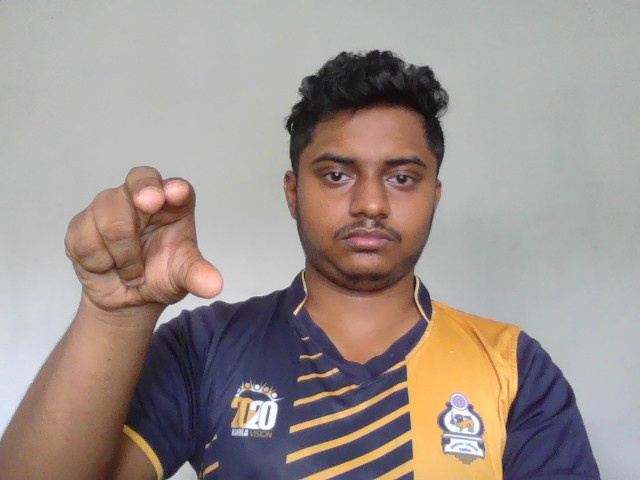No: (61, 163, 232, 309)
